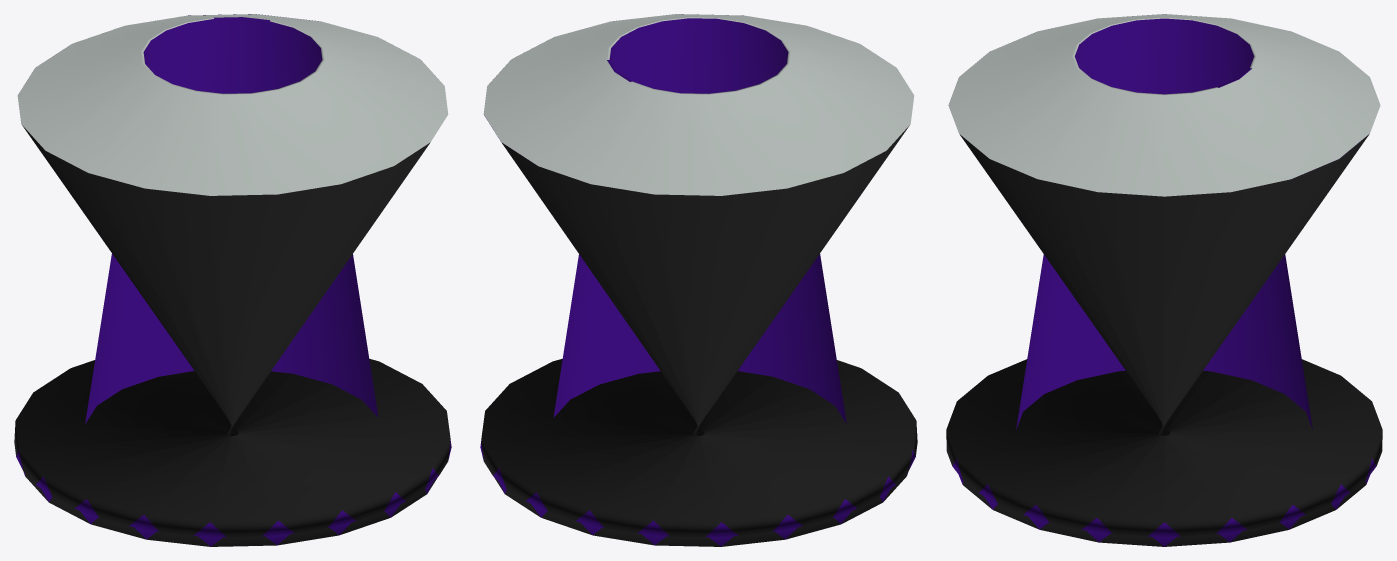
The model's file is NewProjectileShooters.fbx.
The picture shows the model from 3 angles, left to right: view 1: azimuth 30°, elevation 25°; view 2: azimuth 150°, elevation 25°; view 3: azimuth 270°, elevation 25°; orthographic projection.
Parts seen in each view (by area): view 1: Cylinder; view 2: Cylinder; view 3: Cylinder.
Boxes of the visible parts, x1,y1,x2,y2 form: Cylinder: (14,14,451,546); Cylinder: (480,14,917,546); Cylinder: (946,14,1382,546).
Size of the model in its own units: 385 by 391 by 385.
